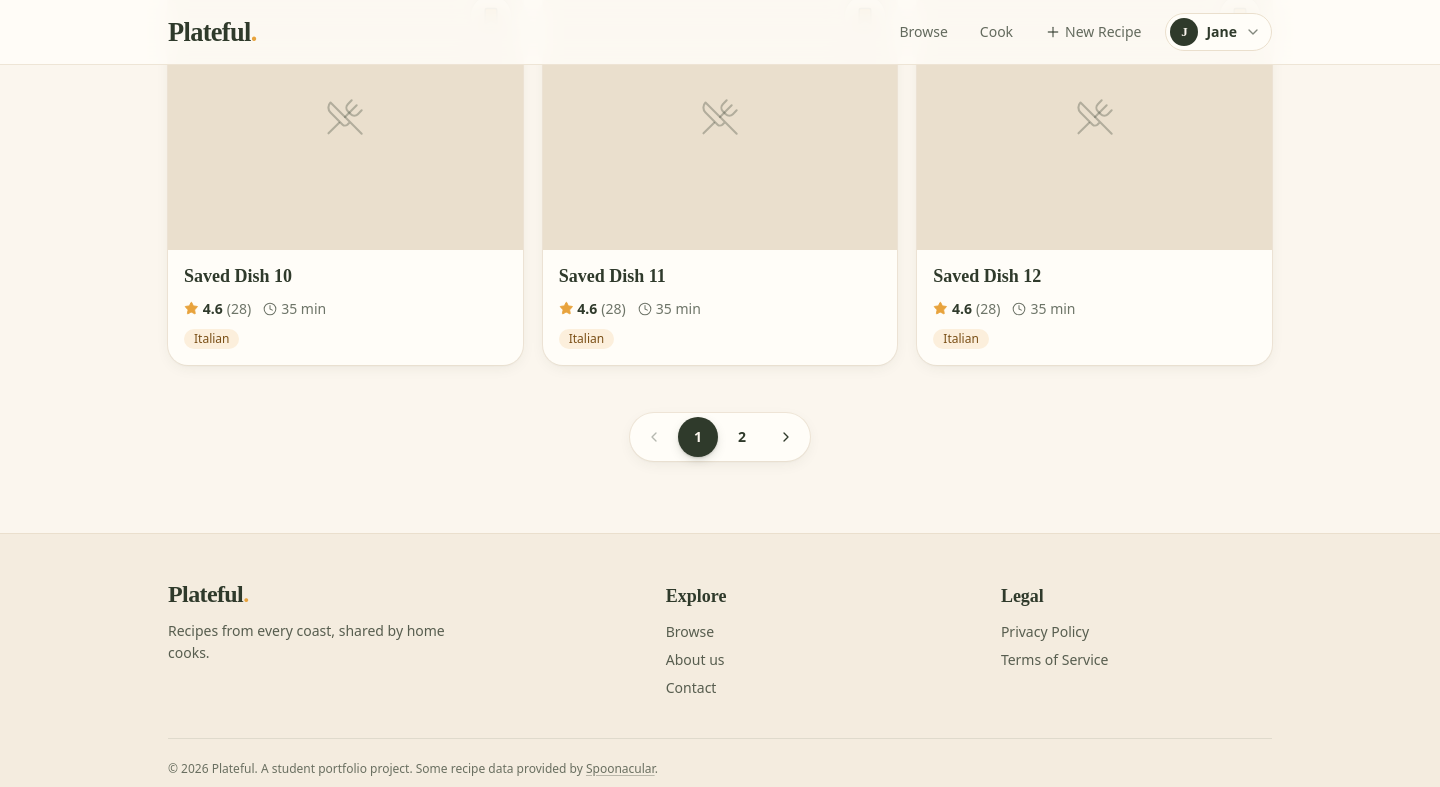
Test: profile tabs › unsavingTheLastCardOfAPageStepsBack
(page scrolled)
Click the button named "Go to page 2". click: click(742, 436)
box: [722,416,762,456]
(page scrolled)
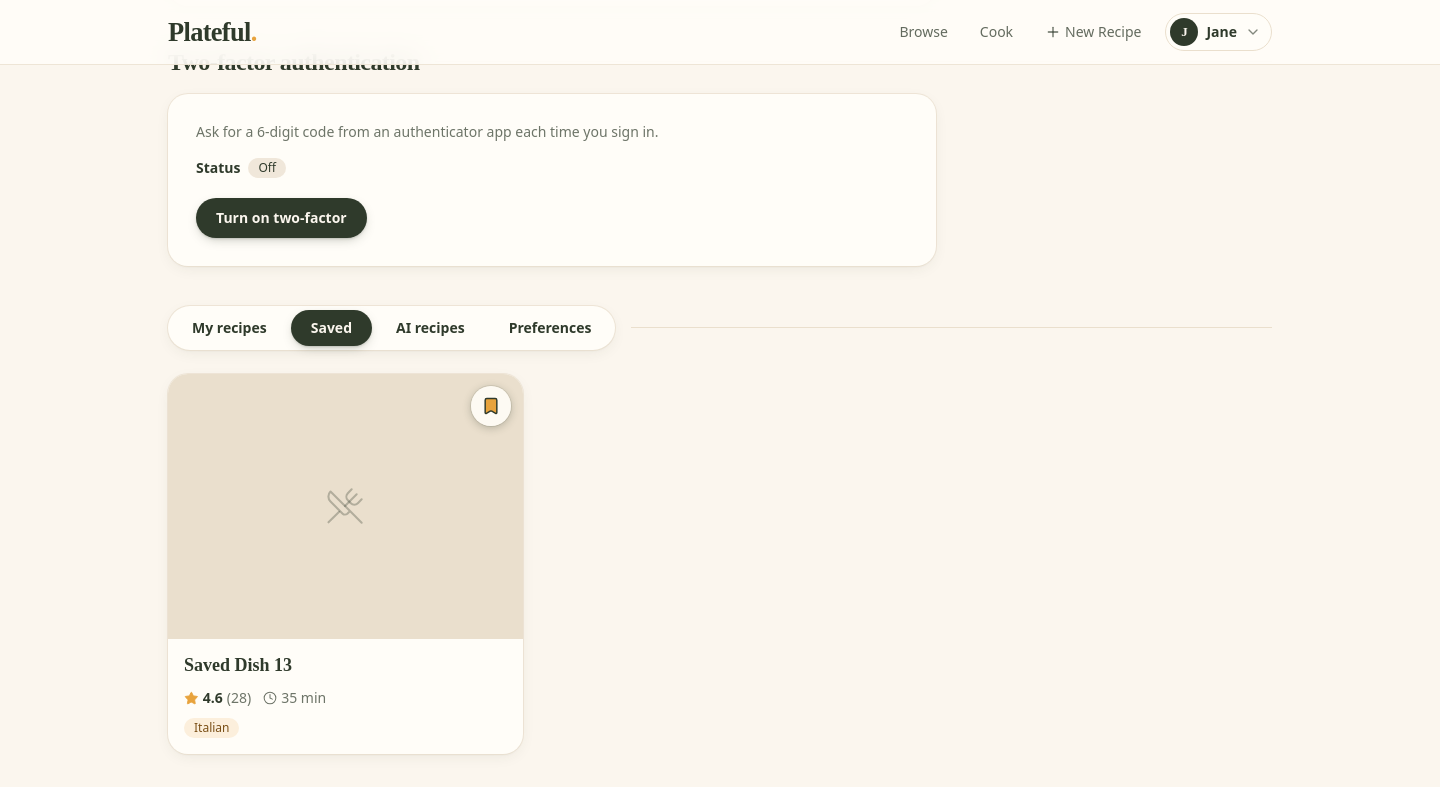
Click the button named "Remove Saved Dish 13 from saved". click: click(491, 406)
box: [471,386,511,426]
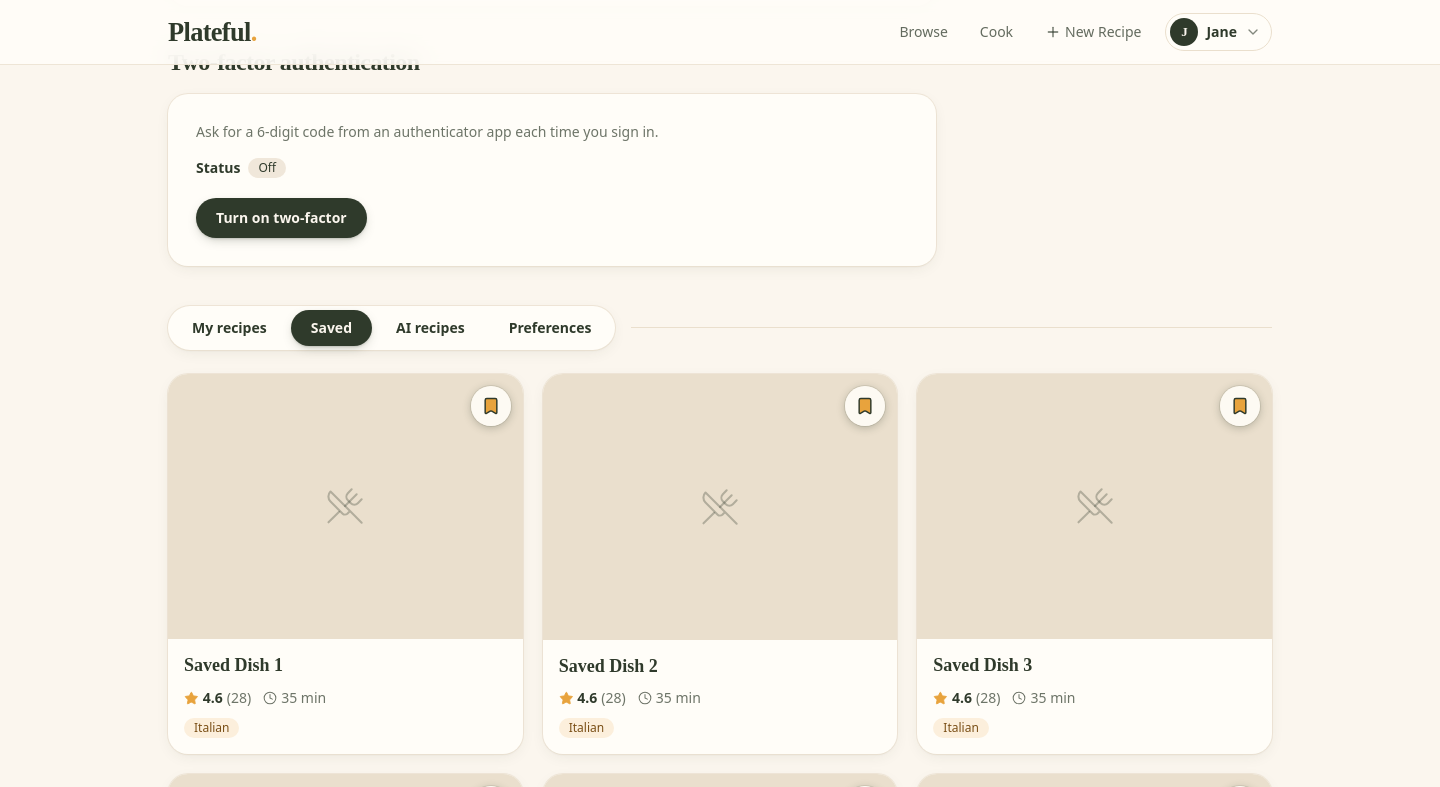
Check: the heading "Saved Dish 1" is shown, box [184,656,283,676]
Check: the link "Saved Dish 13" is gone
